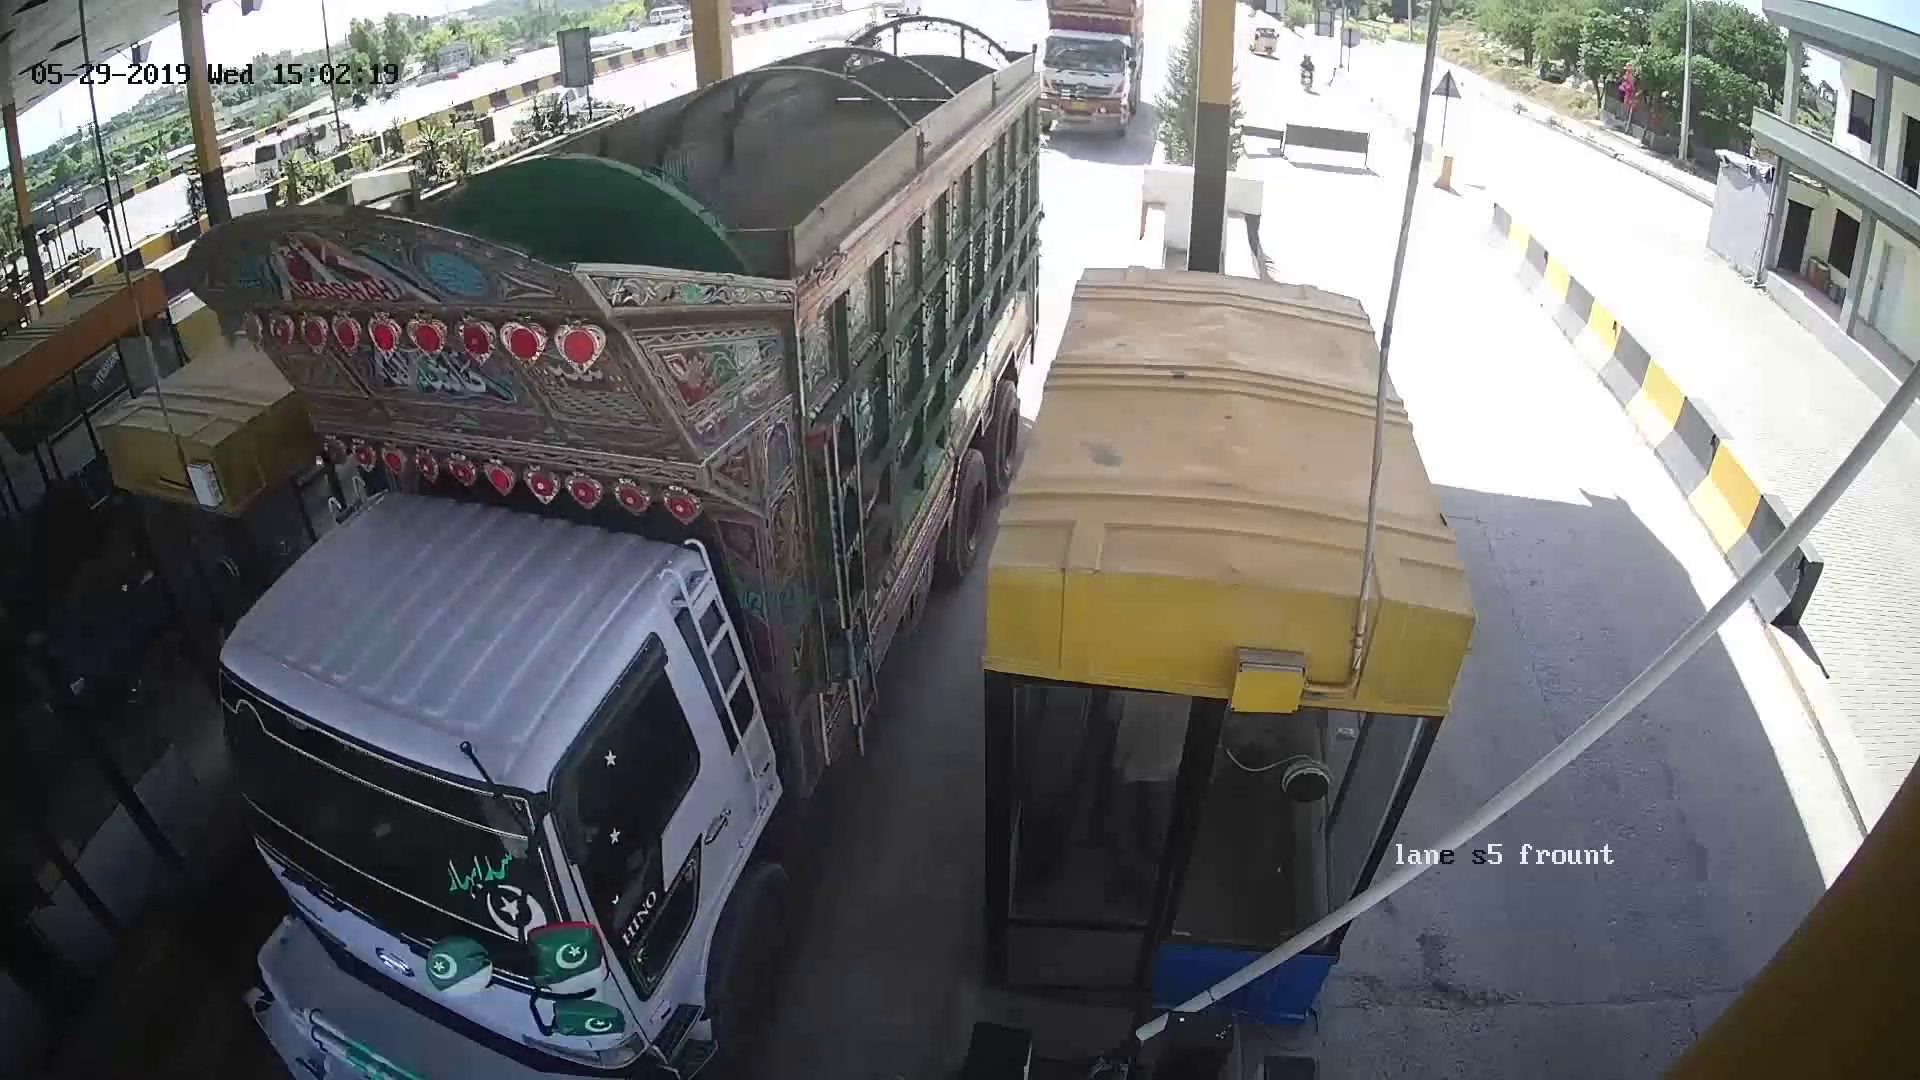truck: (251, 177, 935, 1051), (1035, 13, 1171, 158)
